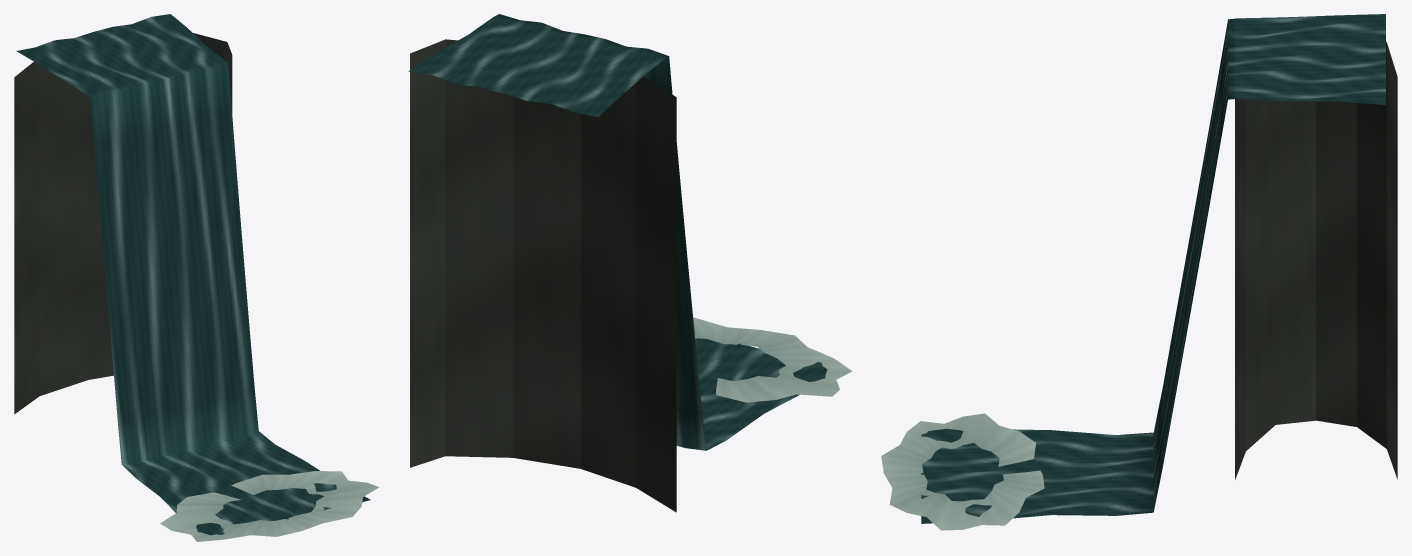
Rendered from fall-wide-lod0.glb.
3 renders of one model, left to right at view 1: azimuth 30°, elevation 25°; view 2: azimuth 150°, elevation 25°; view 3: azimuth 270°, elevation 25°, orthographic. The views are drawn at different scales.
Bounding box in the file's own units: 0.6175 × 1 × 1.11.
Materials: 1 (1 with a texture image).
